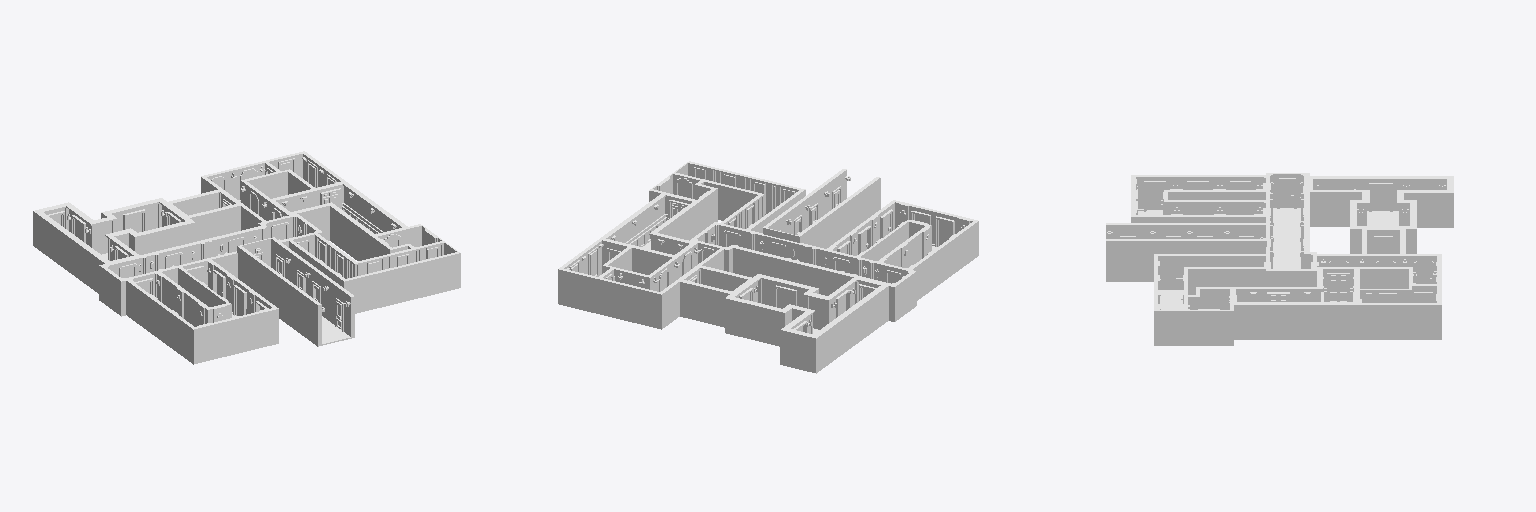
Rendered from labirynt.obj.
3 renders of one model, left to right at view 1: azimuth 30°, elevation 25°; view 2: azimuth 150°, elevation 25°; view 3: azimuth 270°, elevation 25°, orthographic.
Visible parts, largest first — view 1: object 1; view 2: object 1; view 3: object 1.
Part boxes in pixels (bbox=[...]): object 1: bbox=[33, 151, 460, 364]; object 1: bbox=[558, 161, 978, 373]; object 1: bbox=[1106, 173, 1453, 345].
Bounding box in the file's own units: 22.9 × 3.2 × 24.4.